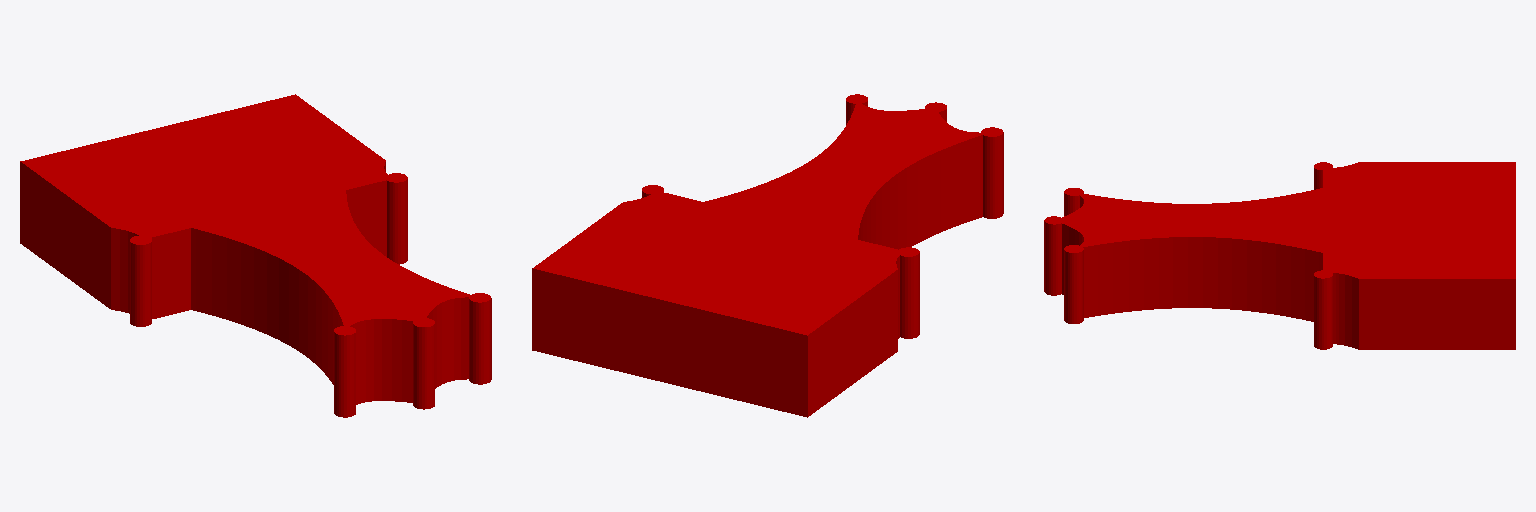
The robot description file, URDF, robot "triangle":
<?xml version="1.0" ?>
<robot name="triangle">
  <link name="baseLink">
    <contact>
      <lateral_friction value="0.2"/>
      <rolling_friction value="0.0"/>
	<restitution value="0.0" />
    </contact>
    <inertial>
      <origin rpy="0 0 0" xyz="0 0 0.5"/>
       <mass value="10"/>
       <inertia ixx="0" ixy="0" ixz="0" iyy="0" iyz="0" izz="0"/>
    </inertial>
    <visual>
      <origin rpy="0 0 0" xyz="0 0 0"/>
      <geometry>
		<mesh filename="./peg_1.obj" scale="0.1 0.1 0.1"/>
      </geometry>
       <material name="red">
        <color rgba="0.8 0 0 1"/>
      </material>
    </visual>
    <collision>
      <origin rpy="0 0 0" xyz="0 0 0"/>
      <geometry>
	 	<mesh filename="./peg_1.obj" scale="0.1 0.1 0.1"/>
      </geometry>
    </collision>
  </link>
</robot>

--- Facts derived from the render (not from the file) ---
Views: 3 orthographic renders of the robot side by side, from view 1: azimuth 30°, elevation 25°; view 2: azimuth 150°, elevation 25°; view 3: azimuth 270°, elevation 25°.
Robot: triangle — 1 links, 0 joints (none); root link baseLink; default pose: every joint at zero.
Visible links, largest first — view 1: baseLink; view 2: baseLink; view 3: baseLink.
Boxes of the visible links, x1,y1,x2,y2 form: baseLink: [20, 94, 491, 417]; baseLink: [532, 94, 1003, 417]; baseLink: [1044, 162, 1515, 349].
Bounding box of the posed robot: 0.7016 × 1.2 × 0.2 m (x, y, z).
1 mesh visuals loaded from 1 distinct referenced files (1 OBJ).